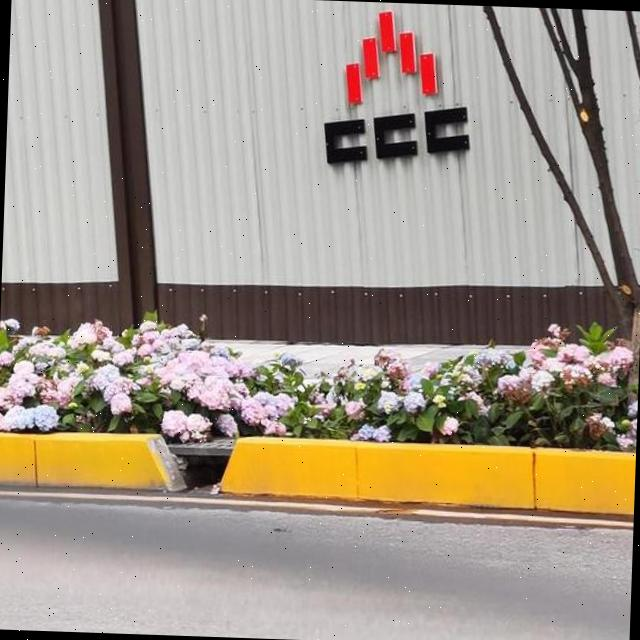curb: (220, 437, 635, 515), (0, 432, 186, 491)
